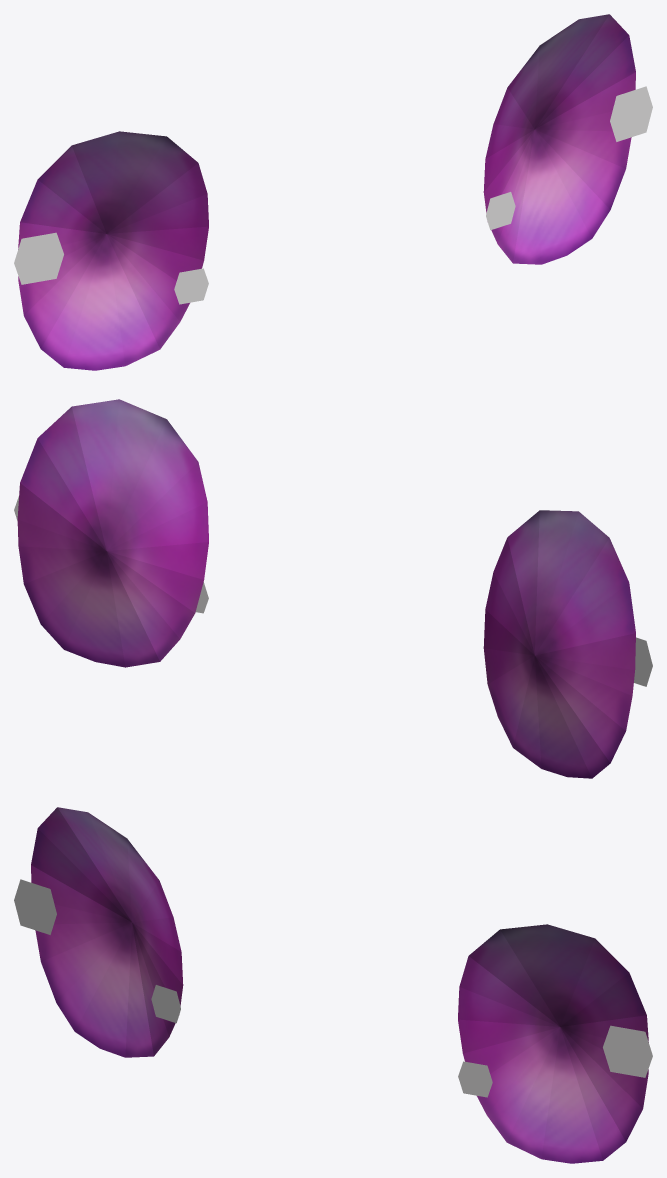
File: zhanshi_yanjing.FBX
3 views of the same model, one above another, from view 1: azimuth 30°, elevation 25°; view 2: azimuth 150°, elevation 25°; view 3: azimuth 330°, elevation 25° (orthographic).
Parts seen in each view (by area): view 1: zhanshi_yanjing; view 2: zhanshi_yanjing; view 3: zhanshi_yanjing.
Boxes of the visible parts, box(x1,y1,x2,y2) form: zhanshi_yanjing: box(14, 14, 652, 370); zhanshi_yanjing: box(14, 399, 652, 778); zhanshi_yanjing: box(14, 807, 652, 1163).
Bounding box in the file's own units: 18.4 × 6.92 × 1.63.
